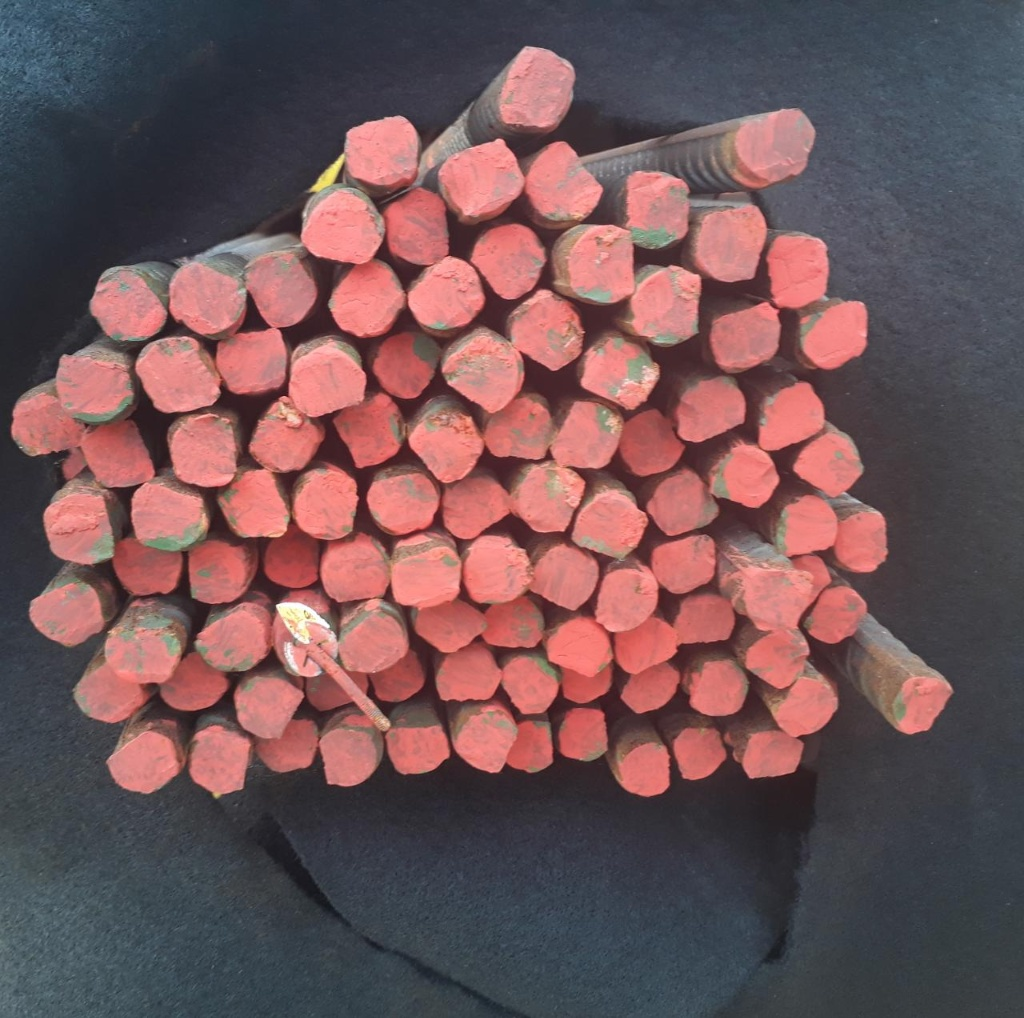dipstick: (523, 139, 602, 224), (499, 44, 575, 130), (134, 337, 219, 413), (439, 141, 522, 218), (327, 260, 406, 337), (246, 399, 321, 479), (407, 255, 485, 331), (736, 106, 815, 181), (578, 339, 660, 410), (389, 531, 462, 610), (57, 353, 137, 425), (511, 293, 582, 374), (272, 594, 342, 676), (472, 225, 547, 301), (625, 164, 691, 250), (633, 265, 702, 347), (331, 395, 406, 470), (167, 262, 242, 337), (707, 300, 781, 376), (342, 113, 420, 185), (302, 191, 380, 263), (246, 251, 316, 331), (214, 465, 289, 539), (132, 480, 211, 550), (92, 269, 165, 344), (696, 207, 768, 283), (570, 222, 635, 305), (167, 415, 240, 488), (337, 600, 408, 673), (409, 413, 483, 483), (289, 349, 367, 415), (798, 299, 871, 369), (44, 495, 117, 565), (384, 187, 450, 264), (552, 399, 624, 469), (445, 339, 517, 409), (81, 425, 159, 489), (571, 495, 646, 559), (617, 409, 687, 477), (515, 463, 583, 533), (374, 331, 442, 401), (765, 234, 830, 307), (27, 583, 103, 645), (105, 735, 182, 796), (216, 329, 286, 396), (365, 469, 438, 533), (184, 728, 252, 796), (759, 384, 829, 450), (648, 472, 718, 538), (742, 565, 812, 630), (441, 476, 514, 538), (233, 676, 305, 738), (454, 706, 519, 773), (530, 546, 599, 609), (296, 469, 358, 539), (675, 380, 746, 441), (265, 514, 323, 588), (103, 628, 181, 683), (710, 446, 780, 507), (464, 538, 531, 601), (486, 397, 552, 460), (769, 676, 837, 737), (793, 438, 865, 495), (594, 567, 659, 630), (158, 651, 228, 709), (196, 614, 265, 672), (12, 399, 81, 457), (649, 534, 713, 596), (110, 538, 182, 593), (321, 545, 388, 604), (804, 583, 868, 644), (72, 666, 143, 720), (187, 541, 248, 602), (546, 619, 612, 675), (745, 632, 812, 687), (435, 646, 502, 701), (319, 726, 378, 787), (775, 497, 838, 553), (413, 606, 488, 653), (830, 512, 887, 572), (478, 595, 542, 648), (256, 720, 321, 772), (894, 675, 954, 731), (500, 657, 557, 714), (382, 725, 448, 774), (741, 728, 805, 778), (613, 620, 677, 670), (672, 726, 728, 781), (558, 705, 610, 764), (689, 664, 748, 715), (620, 664, 680, 714), (619, 741, 670, 797), (307, 665, 369, 710), (675, 597, 733, 645), (505, 717, 554, 772), (371, 656, 423, 702), (564, 667, 612, 704)
